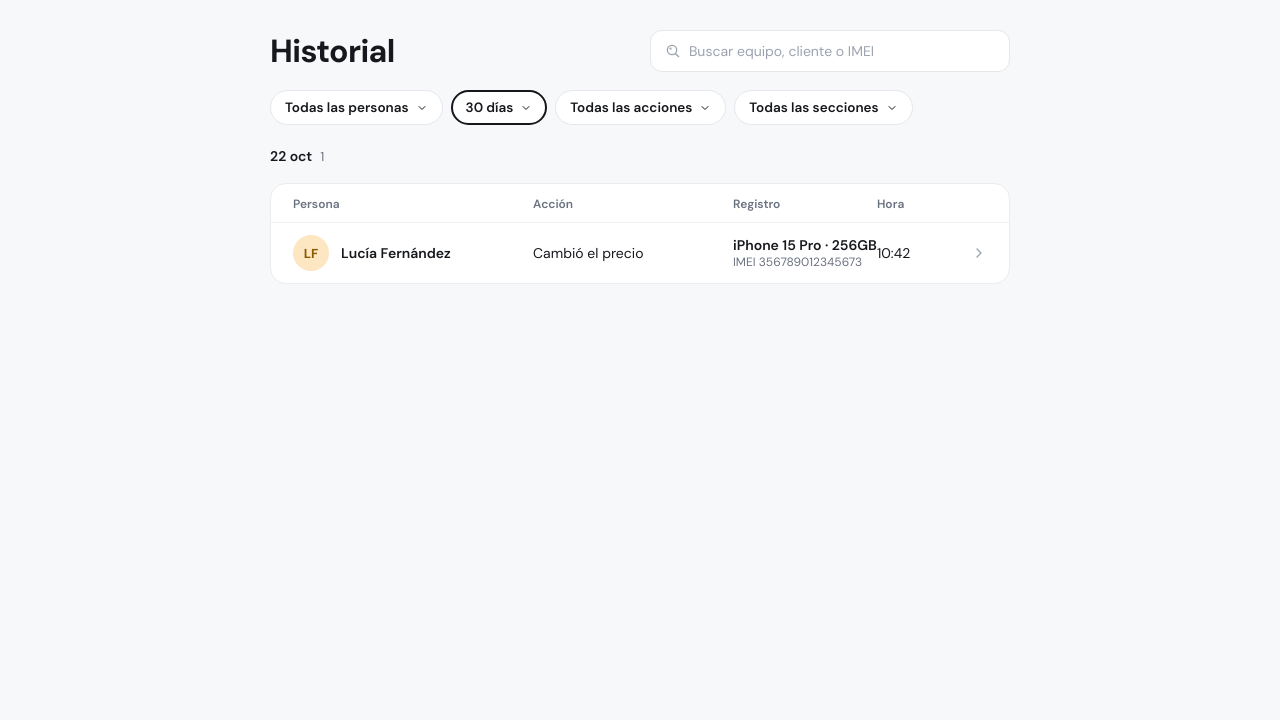
Scenario: Historial #372 › conserva comparaciones reales y omite Antes solo en campos sin valor anterior (phone=false)
This screenshot has width=1280, height=720.
Click the button with aria-label "Lucía Fernández · Cambió el precio": [640, 253] box [271, 223, 1009, 283]
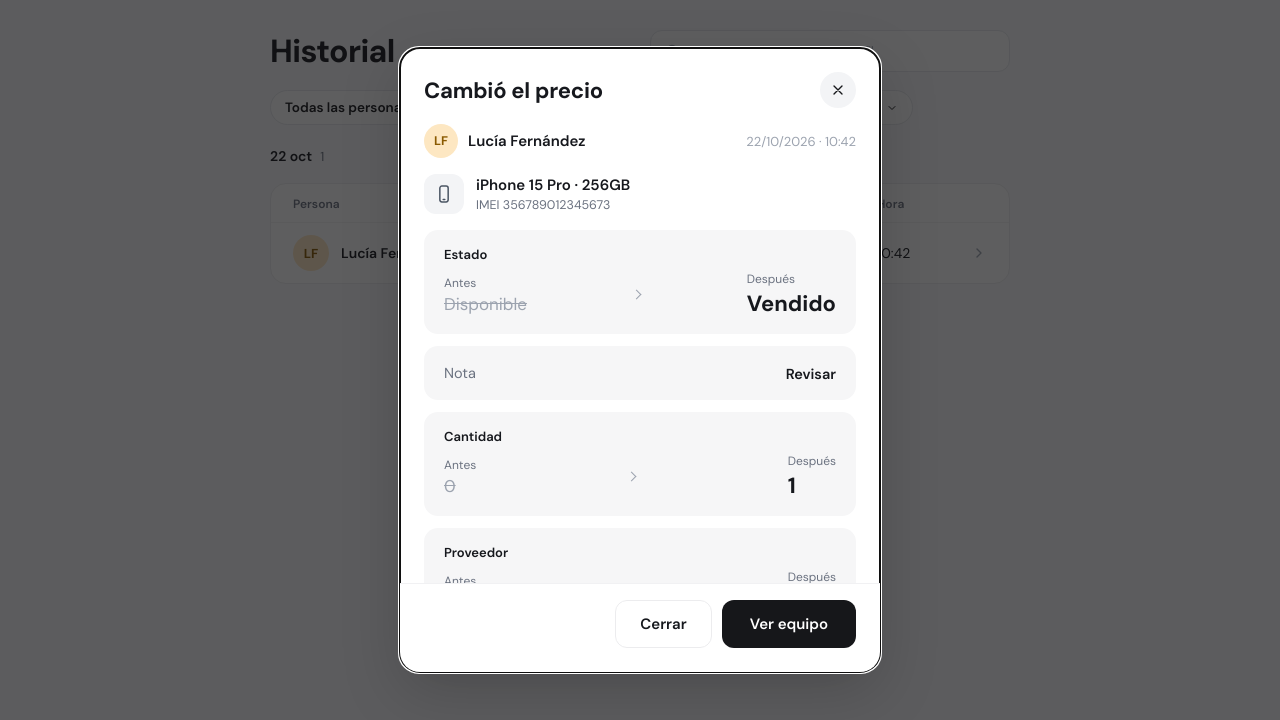
Result: the text "Antes" below "Estado" is shown at [444, 274, 476, 290]
Result: the text "Después" below "Estado" is shown at [747, 271, 795, 287]
Result: the cell "0" is shown at [444, 456, 476, 496]
